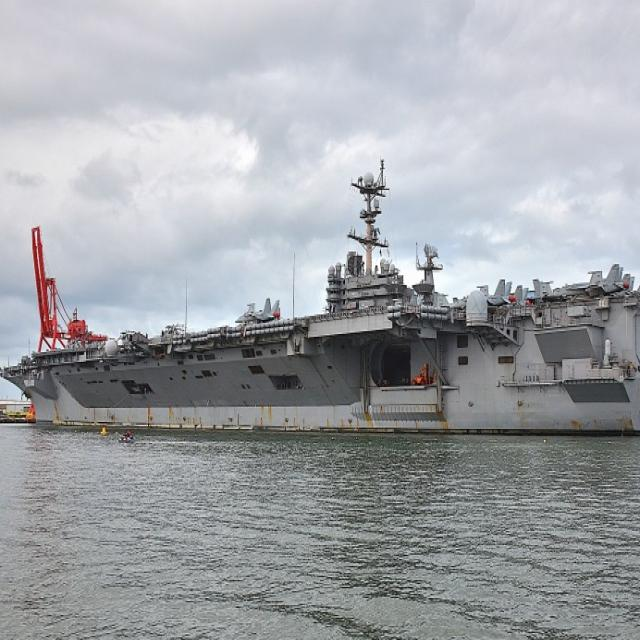Portanaves: (1, 156, 640, 444)
